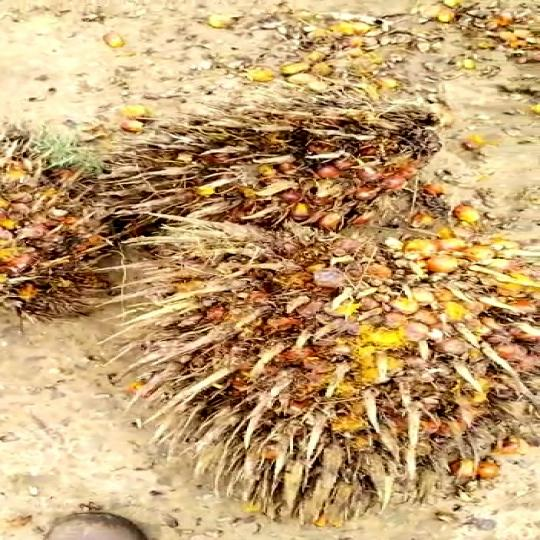terlalu masak: (100, 230, 530, 509), (77, 104, 459, 221)
